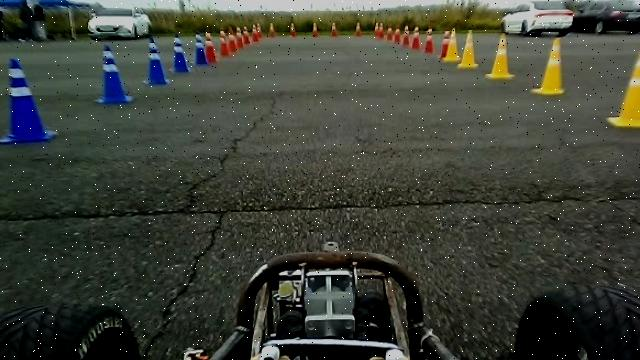blue cone: (0, 58, 53, 142), (93, 44, 132, 104), (142, 35, 169, 85), (168, 32, 189, 73), (193, 33, 208, 65)
red cone: (204, 32, 217, 62), (219, 30, 229, 56), (424, 28, 434, 53), (411, 26, 420, 50), (402, 26, 411, 47)
yellow cone: (606, 46, 640, 128), (530, 35, 565, 95), (484, 32, 514, 80), (456, 28, 478, 70)
